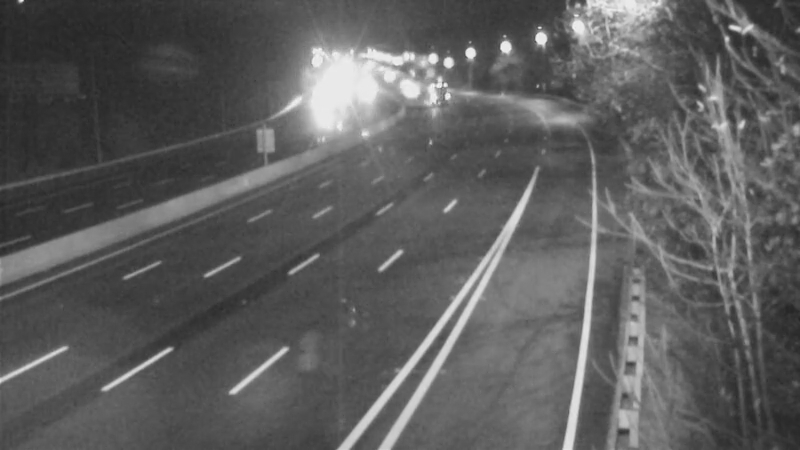vehicle: (363, 52, 413, 102), (378, 59, 428, 109), (384, 70, 434, 120), (411, 71, 461, 121), (296, 78, 346, 128), (342, 65, 392, 115)
